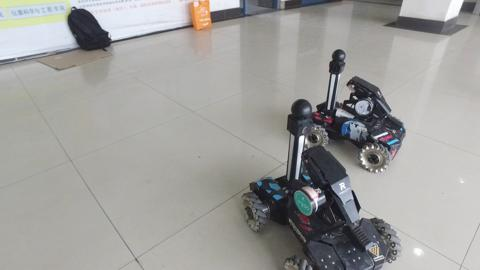bag: (61, 5, 116, 55)
chariot: (243, 98, 405, 270), (301, 44, 410, 179)
